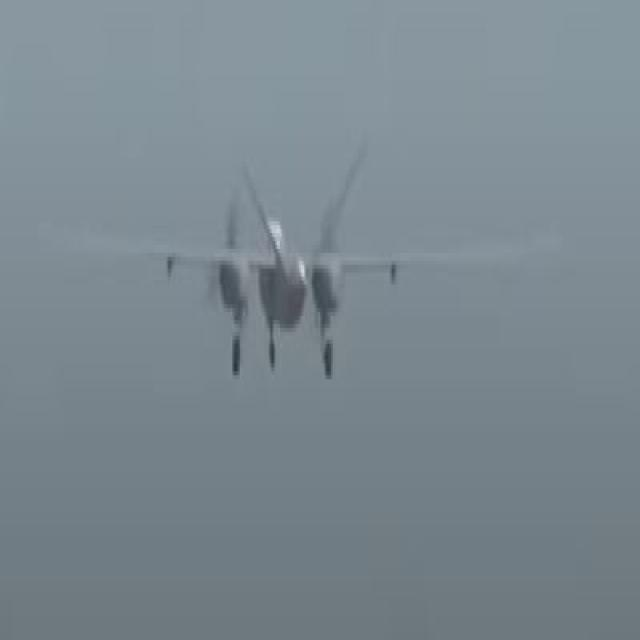iha: (67, 127, 521, 388)
